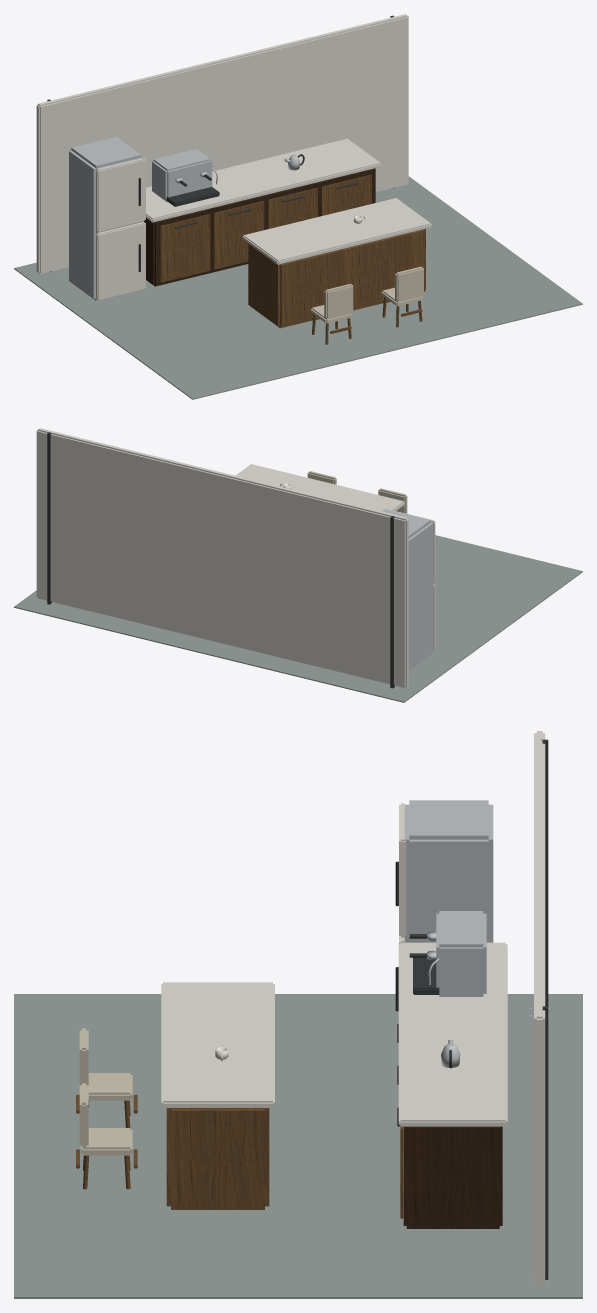
File: kitchen_room_v294.glb
The picture shows the model from 3 angles, top to bottom: view 1: azimuth 30°, elevation 25°; view 2: azimuth 150°, elevation 25°; view 3: azimuth 270°, elevation 25°; orthographic projection. The views are drawn at different scales.
Visible parts, largest first — view 1: kitchen_room_v294_Honed_solid_surface, kitchen_room_v294_V294_Woven_rug, kitchen_room_v294_CC0_Oak_veneer, kitchen_room_v294_FY21_chalk_lacquer, kitchen_room_v294_Brushed_stainless.003, kitchen_room_v294_CC0_Smoked_walnut, kitchen_room_v294_Brushed_stainless.004, kitchen_room_v294_Woven_1.001, kitchen_room_v294_Woven_1.002, kitchen_room_v294_Anodised_graphite.011; view 2: kitchen_room_v294_Honed_solid_surface, kitchen_room_v294_V294_Woven_rug, kitchen_room_v294_Brushed_stainless.003, kitchen_room_v294_Anodised_graphite, kitchen_room_v294_FY21_chalk_lacquer; view 3: kitchen_room_v294_V294_Woven_rug, kitchen_room_v294_Honed_solid_surface, kitchen_room_v294_CC0_Oak_veneer, kitchen_room_v294_Brushed_stainless.003, kitchen_room_v294_CC0_Smoked_walnut, kitchen_room_v294_Brushed_stainless.004, kitchen_room_v294_Anodised_graphite, kitchen_room_v294_Woven_1.002, kitchen_room_v294_Woven_1.001, kitchen_room_v294_Anodised_graphite.011, kitchen_room_v294_FY21_chalk_lacquer.
Part boxes in pixels (left/top/right/bottom): kitchen_room_v294_Honed_solid_surface: left=36, top=14, right=431, bottom=273; kitchen_room_v294_V294_Woven_rug: left=14, top=176, right=582, bottom=399; kitchen_room_v294_CC0_Oak_veneer: left=160, top=174, right=425, bottom=328; kitchen_room_v294_FY21_chalk_lacquer: left=96, top=158, right=145, bottom=300; kitchen_room_v294_Brushed_stainless.003: left=69, top=136, right=143, bottom=300; kitchen_room_v294_CC0_Smoked_walnut: left=144, top=168, right=375, bottom=286; kitchen_room_v294_Brushed_stainless.004: left=152, top=149, right=217, bottom=202; kitchen_room_v294_Woven_1.001: left=310, top=284, right=353, bottom=323; kitchen_room_v294_Woven_1.002: left=381, top=266, right=423, bottom=306; kitchen_room_v294_Anodised_graphite.011: left=166, top=174, right=219, bottom=206; kitchen_room_v294_Honed_solid_surface: left=36, top=428, right=408, bottom=687; kitchen_room_v294_V294_Woven_rug: left=14, top=535, right=582, bottom=702; kitchen_room_v294_Brushed_stainless.003: left=382, top=509, right=433, bottom=670; kitchen_room_v294_Anodised_graphite: left=47, top=432, right=394, bottom=688; kitchen_room_v294_FY21_chalk_lacquer: left=387, top=509, right=435, bottom=650; kitchen_room_v294_V294_Woven_rug: left=14, top=994, right=582, bottom=1298; kitchen_room_v294_Honed_solid_surface: left=161, top=731, right=545, bottom=1285; kitchen_room_v294_CC0_Oak_veneer: left=166, top=1108, right=403, bottom=1218; kitchen_room_v294_Brushed_stainless.003: left=404, top=800, right=493, bottom=942; kitchen_room_v294_CC0_Smoked_walnut: left=403, top=1126, right=502, bottom=1228; kitchen_room_v294_Brushed_stainless.004: left=426, top=911, right=486, bottom=996; kitchen_room_v294_Anodised_graphite: left=397, top=739, right=548, bottom=1279; kitchen_room_v294_Woven_1.002: left=79, top=1083, right=132, bottom=1155; kitchen_room_v294_Woven_1.001: left=79, top=1028, right=132, bottom=1100; kitchen_room_v294_Anodised_graphite.011: left=409, top=934, right=439, bottom=994; kitchen_room_v294_FY21_chalk_lacquer: left=399, top=803, right=406, bottom=944.
Bounding box in the file's own units: 5.8 × 2.44 × 4.6.
Materials: 18 (4 with a texture image).
